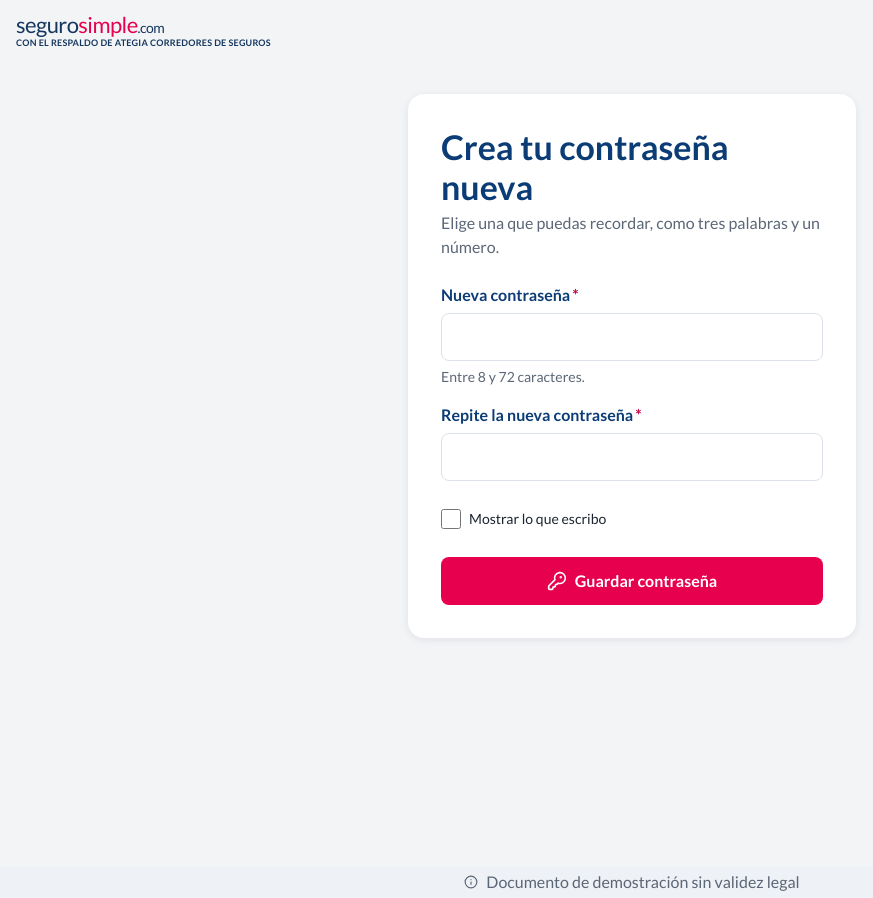
RestablecerPasswordPage › muestra el mensaje en lenguaje llano si Supabase rechaza la contraseña y no sale de la pantalla
Step 1. Type "Casa-Verde-Lluvia-26" into the password field labelled "Nueva contraseña*" → coordinates (632, 337), box [441,313,823,361]
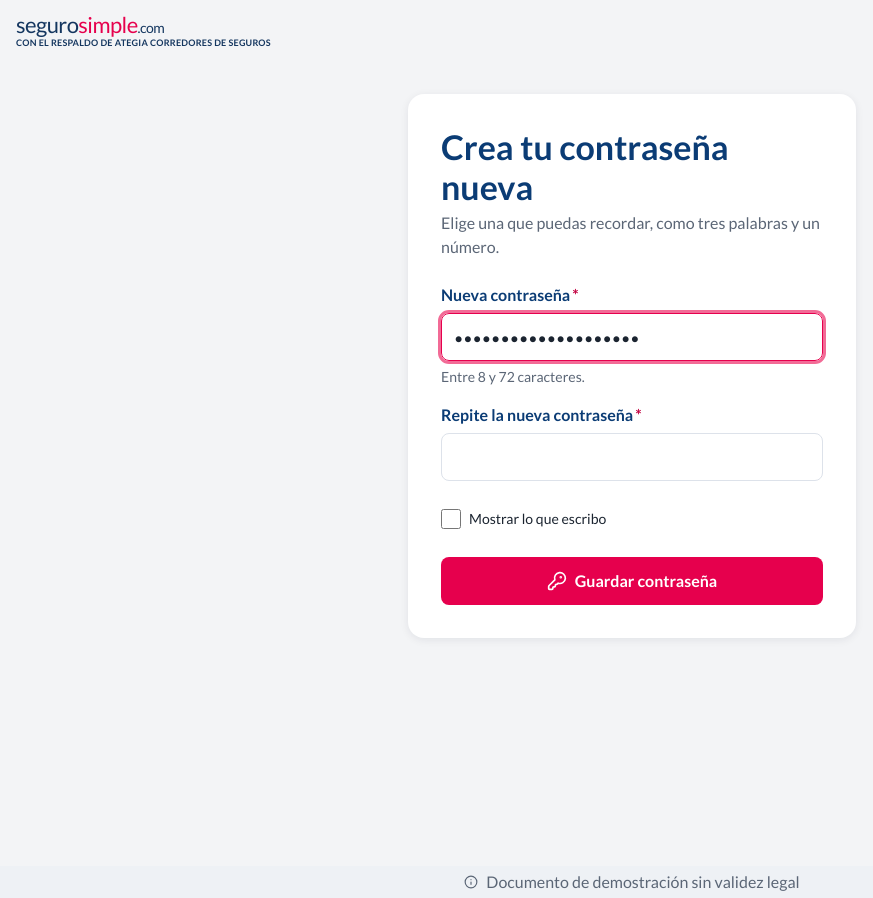
Step 2. Type "Casa-Verde-Lluvia-26" into the password field labelled "Repite la nueva contraseña*" → coordinates (632, 457), box [441,433,823,481]
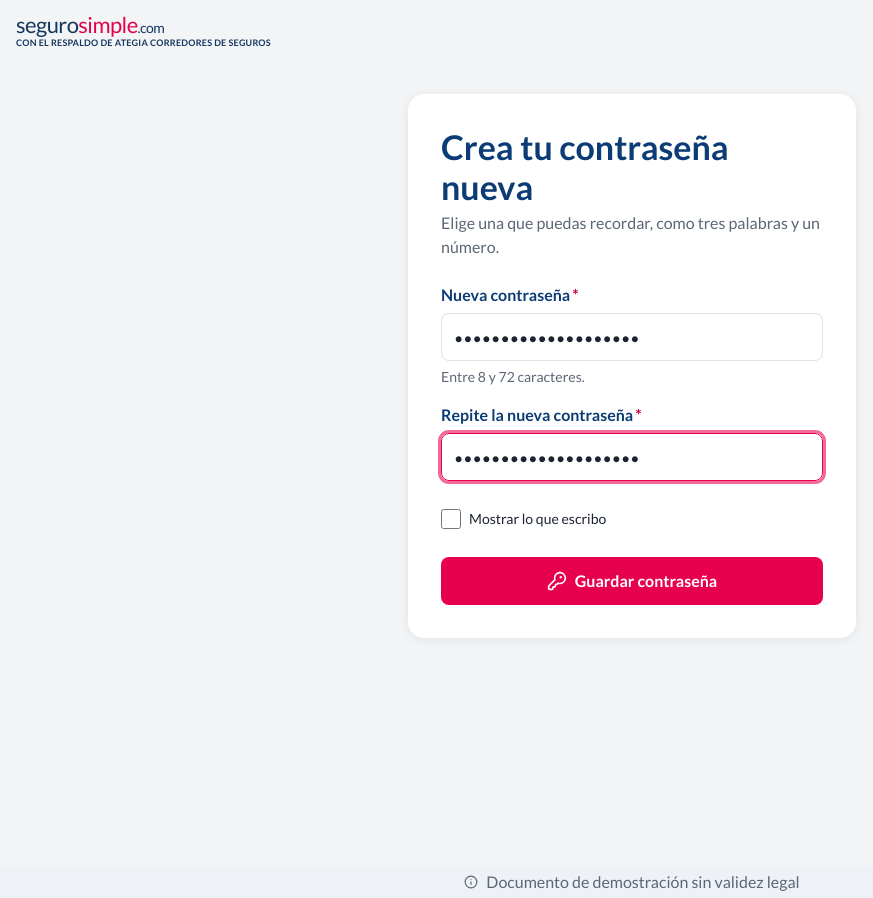
Step 3. Click the button "Guardar contraseña" → coordinates (632, 581), box [441,557,823,605]
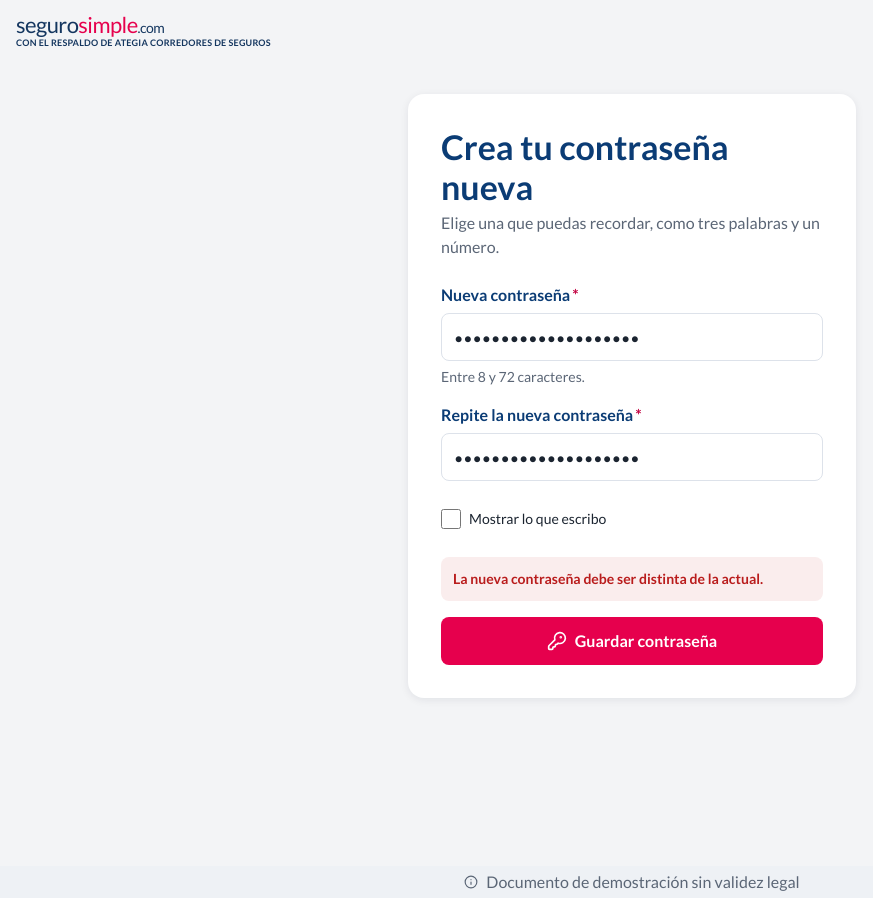
Check: the message shows "distinta de la actual", box [453,570,763,587]
